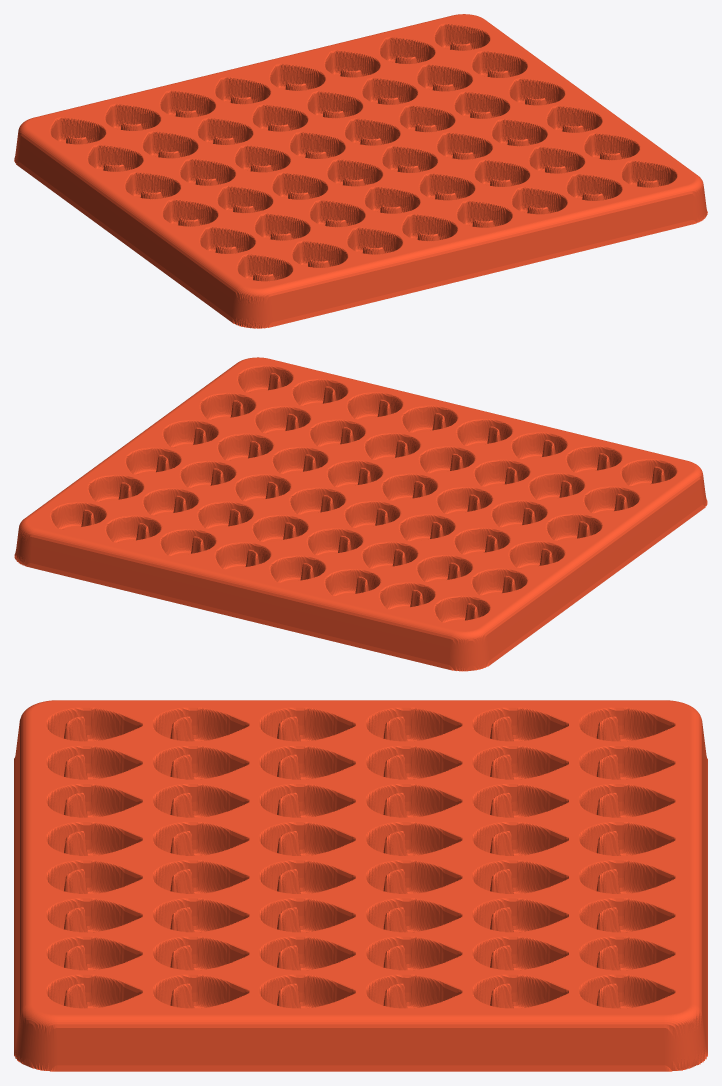
The model's file is mold.glb.
3 views of the same model, one above another, from view 1: azimuth 30°, elevation 25°; view 2: azimuth 150°, elevation 25°; view 3: azimuth 270°, elevation 25° (orthographic). The views are drawn at different scales.
Parts seen in each view (by area): view 1: geometry_0; view 2: geometry_0; view 3: geometry_0.
Boxes of the visible parts, x1,y1,x2,y2 form: geometry_0: [14, 14, 707, 328]; geometry_0: [14, 357, 707, 671]; geometry_0: [14, 700, 707, 1071].
Size of the model in its own units: 0.1616 by 0.0114 by 0.1443.
